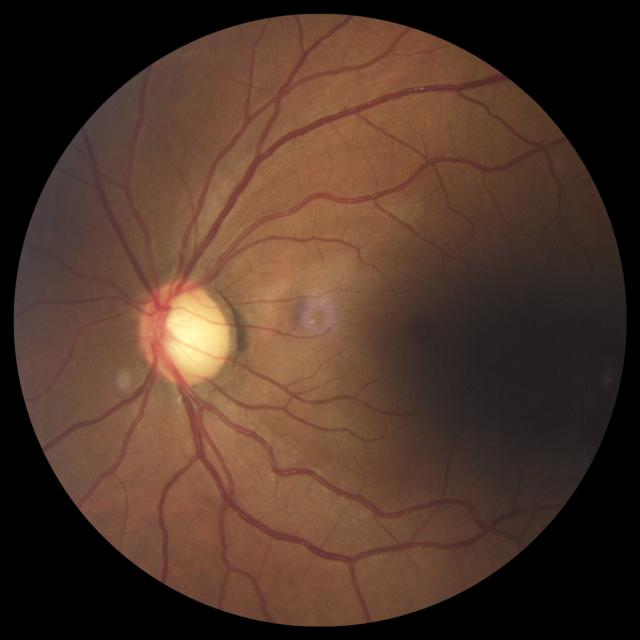OC: (157, 296, 223, 367)
OD: (137, 280, 228, 384)
